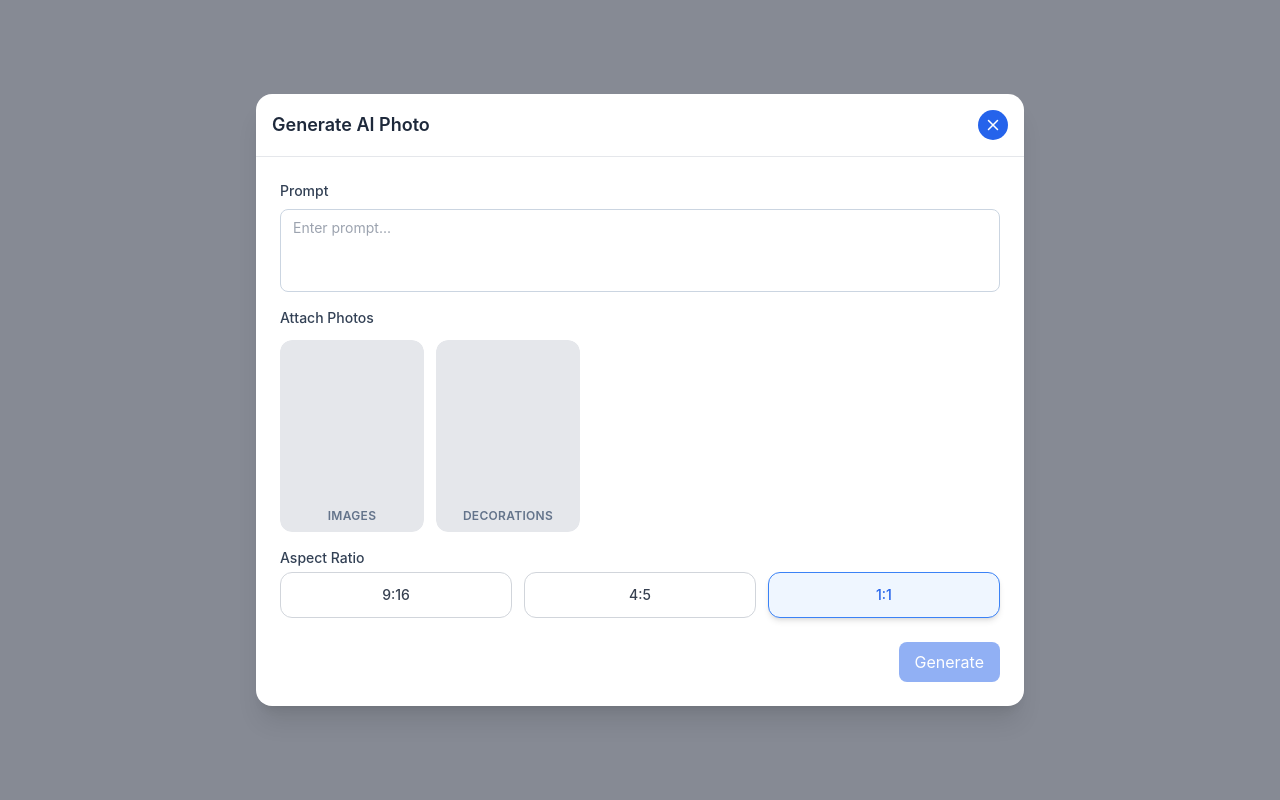
it: CreateAiPhotoDlg › Generate button is enabled when prompt has text
The image size is (1280, 800).
Step 1. Type "a sunset over mountains" into the text box with placeholder "Enter prompt..." → (640,248), box [293, 218, 987, 278]
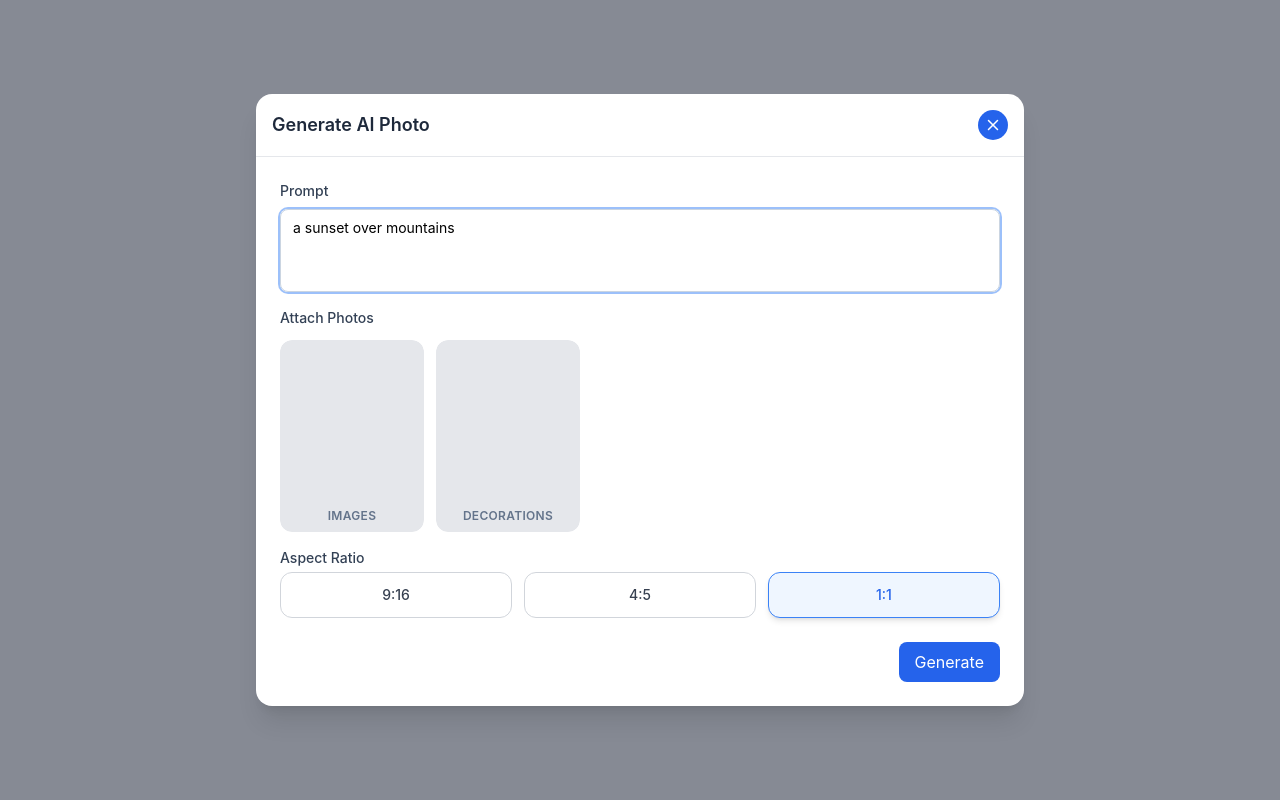
Expected: the button "Generate" is enabled, [898, 642, 1000, 682]
